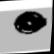correct: (6, 4, 52, 40)
